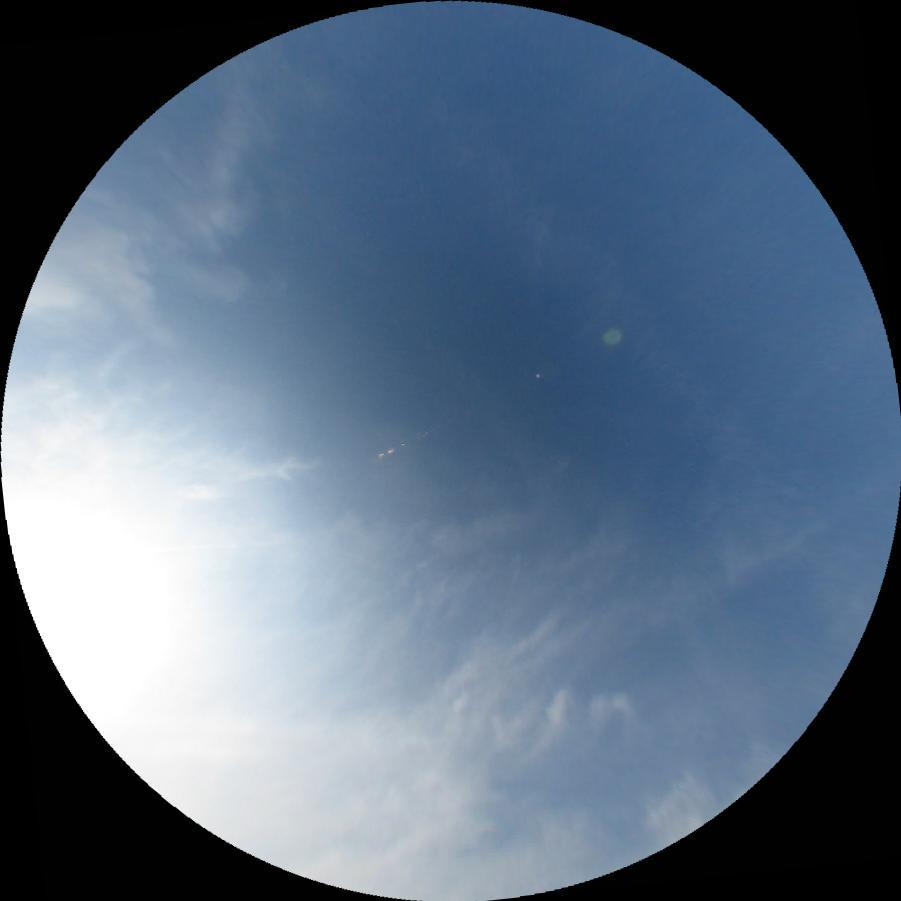contrail veryold: (432, 137, 901, 648)
parasite: (168, 536, 290, 549)
